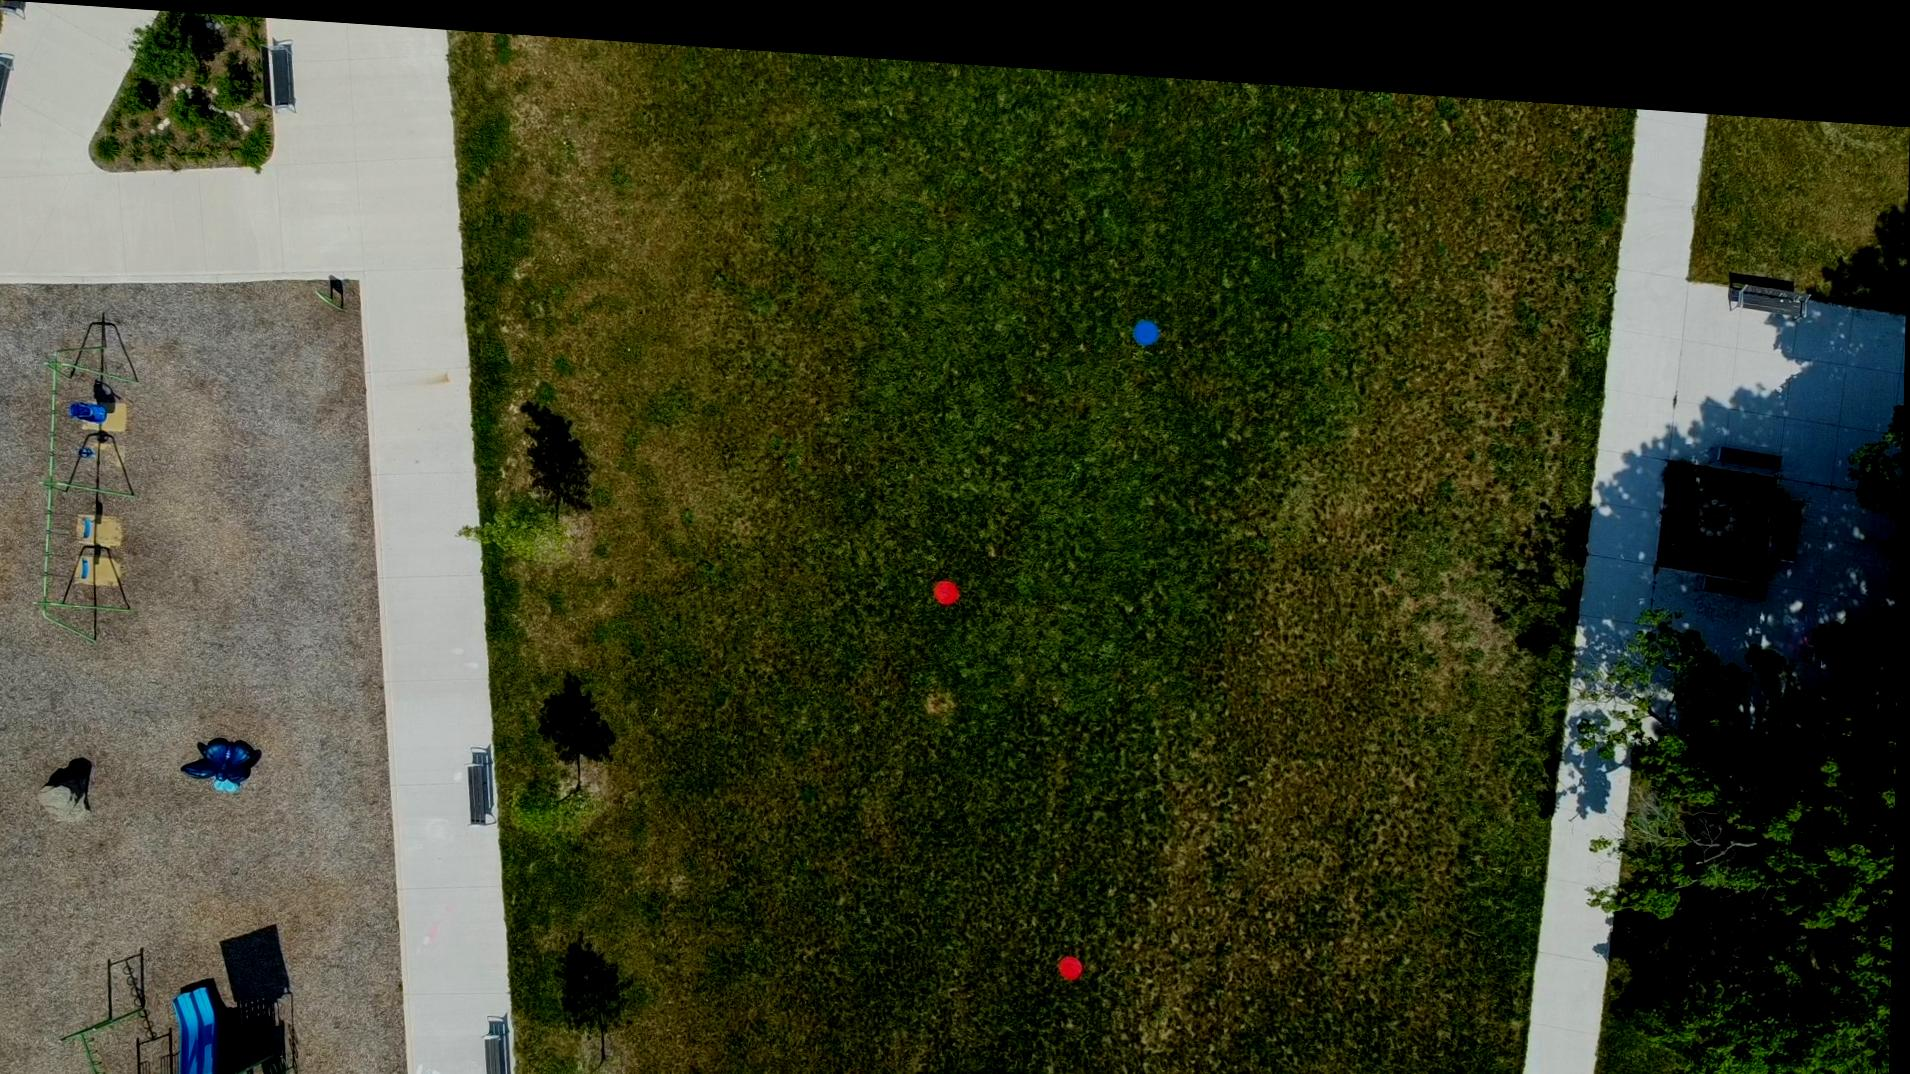Blue: (1132, 303, 1162, 330)
Red: (935, 564, 964, 593), (1061, 939, 1089, 966)
